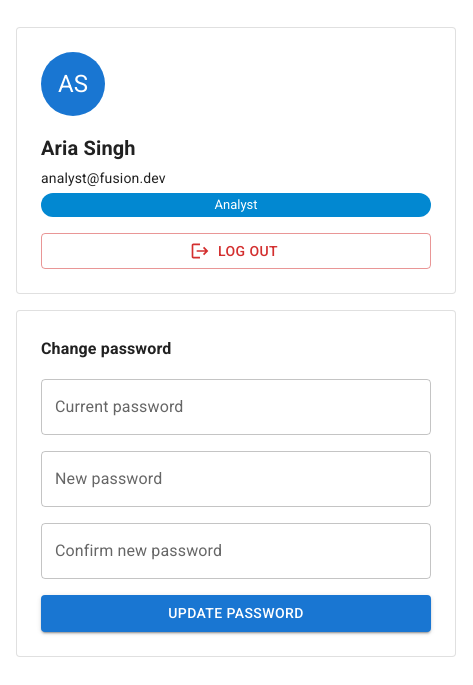
Scenario: ProfilePage › rejects a mismatched password confirmation
Type "old-pass" into the password field labelled "Current password" at (236, 407), box [41, 379, 431, 435]
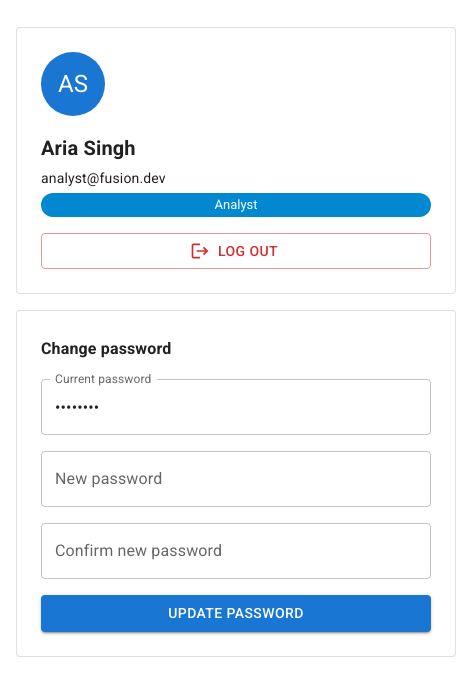
Type "new-pass-1" into the password field labelled "New password" at (236, 479), box [41, 451, 431, 507]
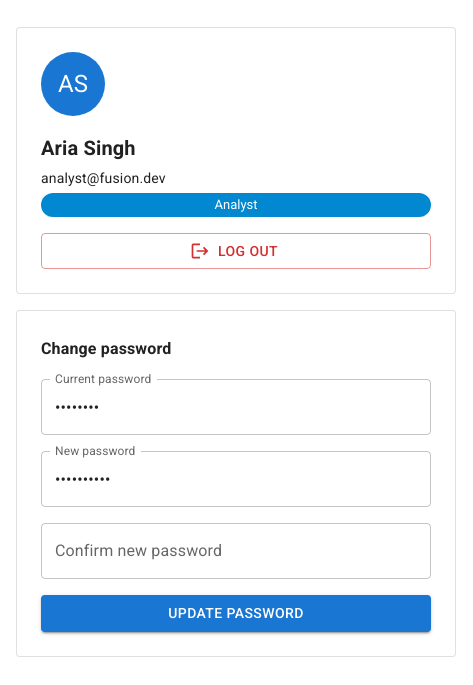
Type "different" into the password field labelled "Confirm new password" at (236, 551), box [41, 523, 431, 579]
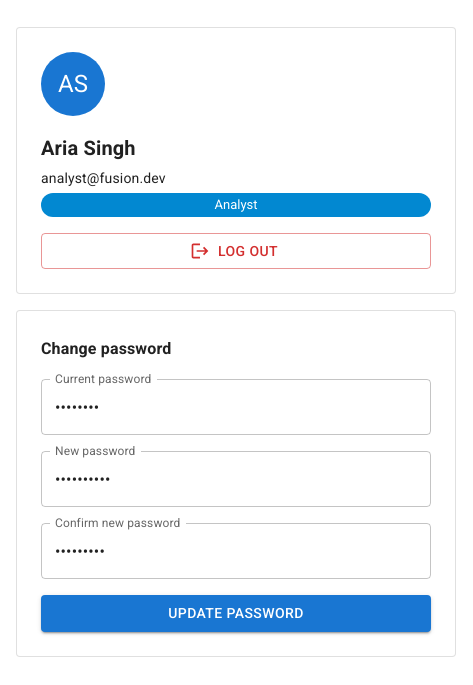
Click the button "Update password" at (236, 613), box [41, 595, 431, 632]
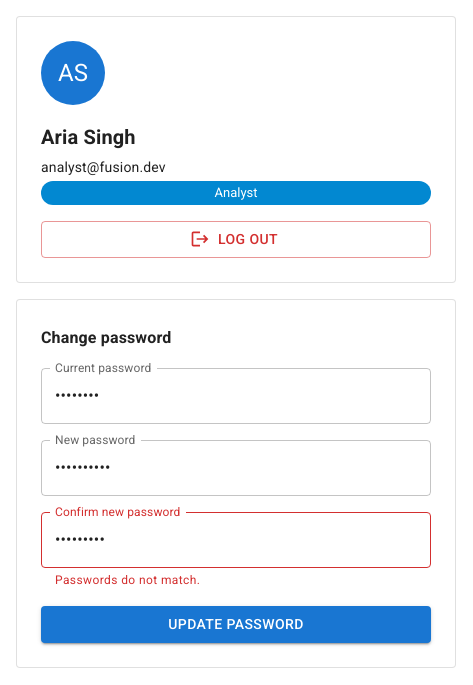
Check: the text "Passwords do not match." is shown, box [55, 572, 200, 586]
